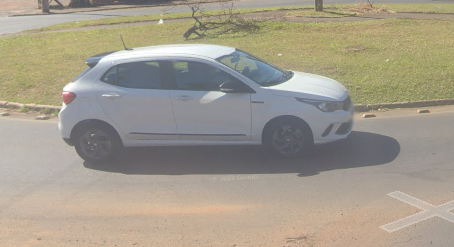car: (53, 32, 357, 168)
